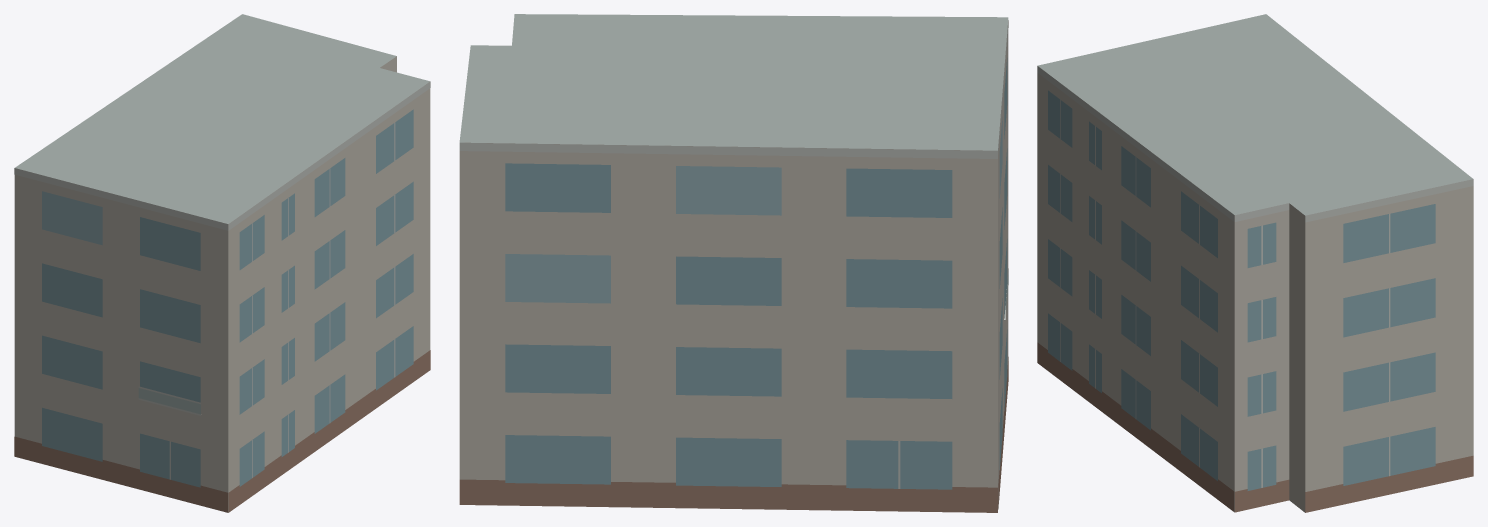
Rendered from survey-upis-32725042.glb.
The picture shows the model from 3 angles, left to right: view 1: azimuth 30°, elevation 25°; view 2: azimuth 150°, elevation 25°; view 3: azimuth 270°, elevation 25°; orthographic projection. The views are drawn at different scales.
Parts seen in each view (by area): view 1: survey-upis-32725042.tmp; view 2: survey-upis-32725042.tmp; view 3: survey-upis-32725042.tmp.
Boxes of the visible parts, box(x1,y1,x2,y2) form: survey-upis-32725042.tmp: box(14, 14, 430, 512); survey-upis-32725042.tmp: box(459, 14, 1008, 512); survey-upis-32725042.tmp: box(1037, 14, 1473, 512).
Bounding box in the file's own units: 15.29 × 10.5 × 13.98.
